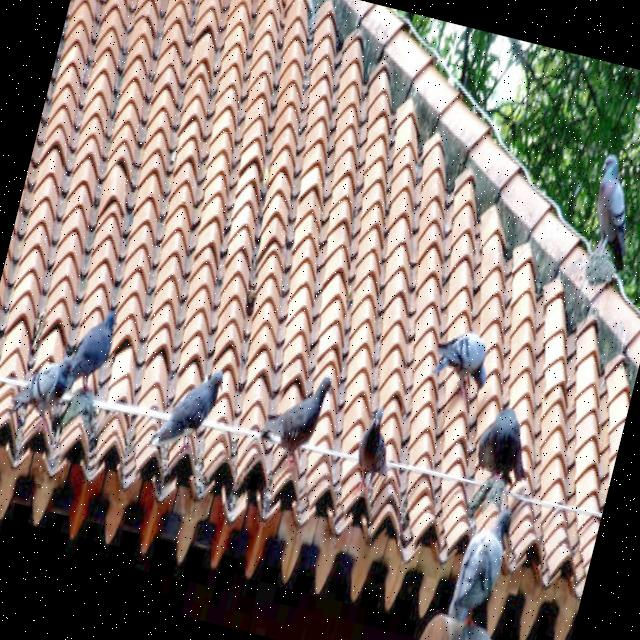bird: (446, 498, 518, 630), (147, 356, 226, 460), (576, 151, 640, 274), (256, 364, 334, 462), (486, 470, 555, 580), (468, 402, 540, 492)
